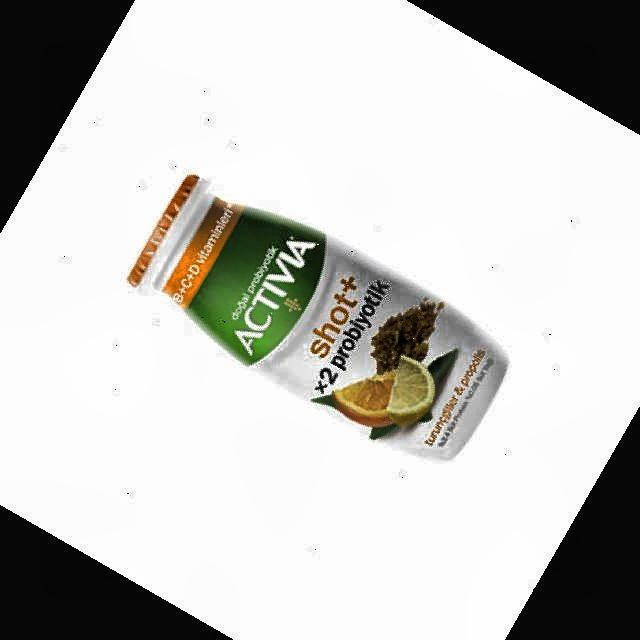plastic: (129, 175, 508, 458)
